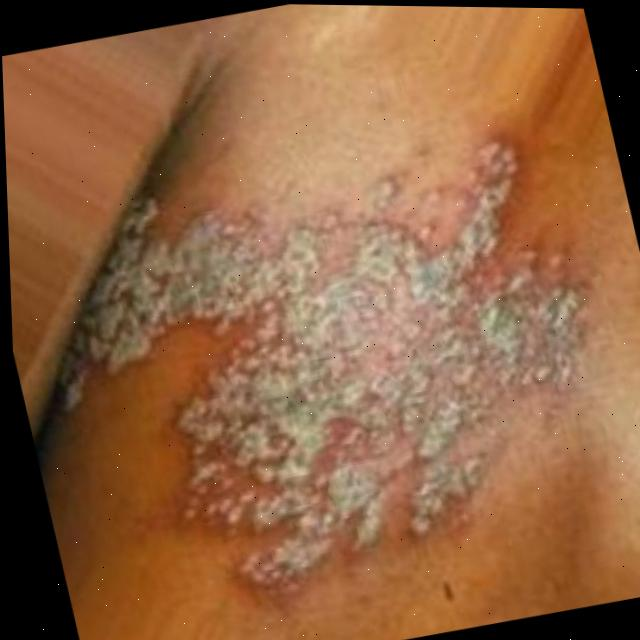Shingles: (5, 106, 626, 640)
